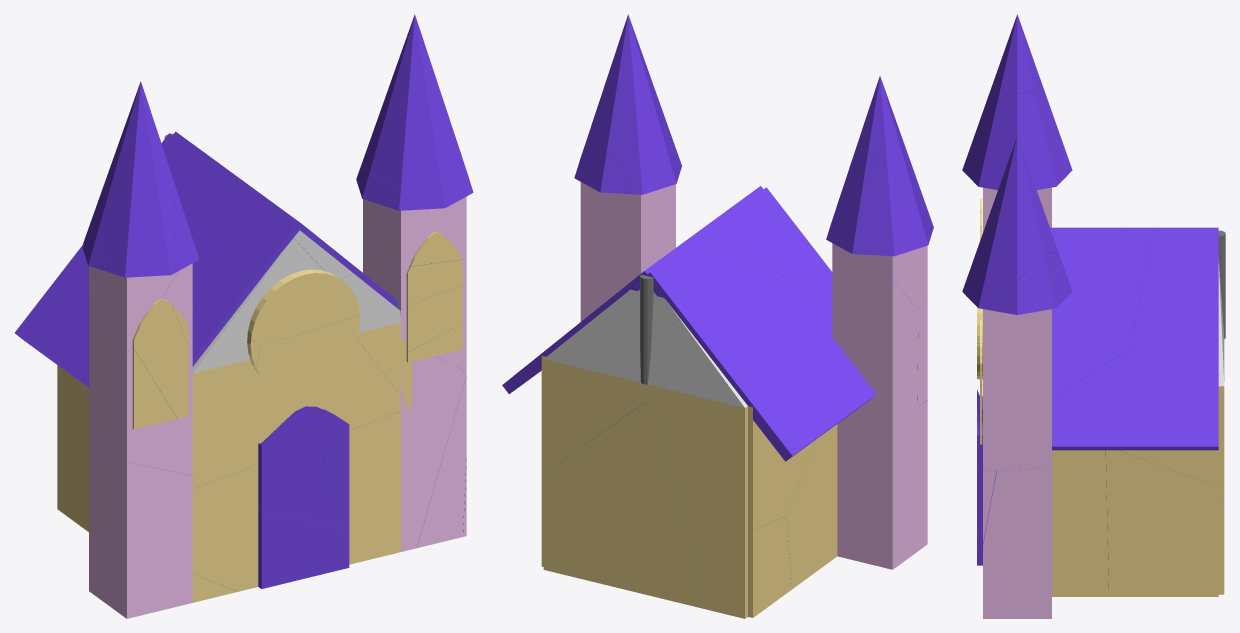
File: HouseC_Broken.fbx
3 renders of one model, left to right at view 1: azimuth 30°, elevation 25°; view 2: azimuth 150°, elevation 25°; view 3: azimuth 270°, elevation 25°, orthographic. The views are drawn at different scales.
Visible parts, largest first — view 1: HouseC.024_cell.001, HouseC.029_cell, HouseC.029_cell.002, HouseC.001_cell.003, HouseC.004_cell.001, HouseC.002_cell.003, HouseC.004_cell.002, HouseC.023_cell.002, HouseC.023_cell.001, HouseC_cell.002, HouseC.024_cell.003, HouseC.026_cell.002 (+24 smaller); view 2: HouseC.004_cell.001, HouseC.032_cell.003, HouseC.032_cell.002, HouseC.024_cell.001, HouseC.024_cell, HouseC.023_cell.001, HouseC.002_cell.003, HouseC.004_cell.002, HouseC.032_cell.001, HouseC.001_cell.002, HouseC.031_cell.002, HouseC.022_cell.002 (+15 smaller); view 3: HouseC.030_cell.002, HouseC.003_cell.003, HouseC.003_cell.001, HouseC.023_cell.001, HouseC.003_cell, HouseC.023_cell.003, HouseC.030_cell.003, HouseC.002_cell.003, HouseC.001_cell.001, HouseC.001_cell.003, HouseC.002_cell.002, HouseC.030_cell (+9 smaller).
Boxes of the visible parts, x1,y1,x2,y2 form: HouseC.024_cell.001: [89, 441, 192, 618]; HouseC.029_cell: [192, 411, 400, 591]; HouseC.029_cell.002: [192, 339, 408, 488]; HouseC.001_cell.003: [99, 81, 174, 277]; HouseC.004_cell.001: [19, 133, 223, 387]; HouseC.002_cell.003: [362, 49, 472, 193]; HouseC.004_cell.002: [192, 172, 298, 366]; HouseC.023_cell.002: [401, 356, 466, 551]; HouseC.023_cell.001: [363, 196, 466, 371]; HouseC_cell.002: [258, 406, 327, 522]; HouseC.024_cell.003: [115, 263, 192, 475]; HouseC.026_cell.002: [247, 269, 359, 345]; HouseC.004_cell.001: [646, 236, 876, 454]; HouseC.032_cell.003: [543, 402, 700, 607]; HouseC.032_cell.002: [652, 389, 747, 618]; HouseC.024_cell.001: [837, 400, 927, 569]; HouseC.024_cell: [832, 243, 918, 439]; HouseC.023_cell.001: [580, 182, 675, 321]; HouseC.002_cell.003: [591, 49, 675, 178]; HouseC.004_cell.002: [700, 187, 832, 297]; HouseC.032_cell.001: [543, 359, 640, 473]; HouseC.001_cell.002: [841, 147, 930, 254]; HouseC.031_cell.002: [786, 424, 837, 588]; HouseC.022_cell.002: [648, 319, 747, 407]; HouseC.030_cell.002: [1106, 450, 1218, 596]; HouseC.003_cell.003: [1052, 348, 1218, 450]; HouseC.003_cell.001: [1051, 230, 1152, 398]; HouseC.023_cell.001: [983, 309, 1051, 470]; HouseC.003_cell: [1130, 230, 1218, 366]; HouseC.023_cell.003: [983, 467, 1051, 618]; HouseC.030_cell.003: [1052, 450, 1108, 596]; HouseC.002_cell.003: [966, 167, 1058, 311]; HouseC.001_cell.001: [964, 92, 1064, 189]; HouseC.001_cell.003: [962, 14, 1040, 171]; HouseC.002_cell.002: [996, 252, 1072, 314]; HouseC.030_cell: [1118, 450, 1218, 486].
Bounding box in the file's own units: 6.92 × 9 × 4.59.
